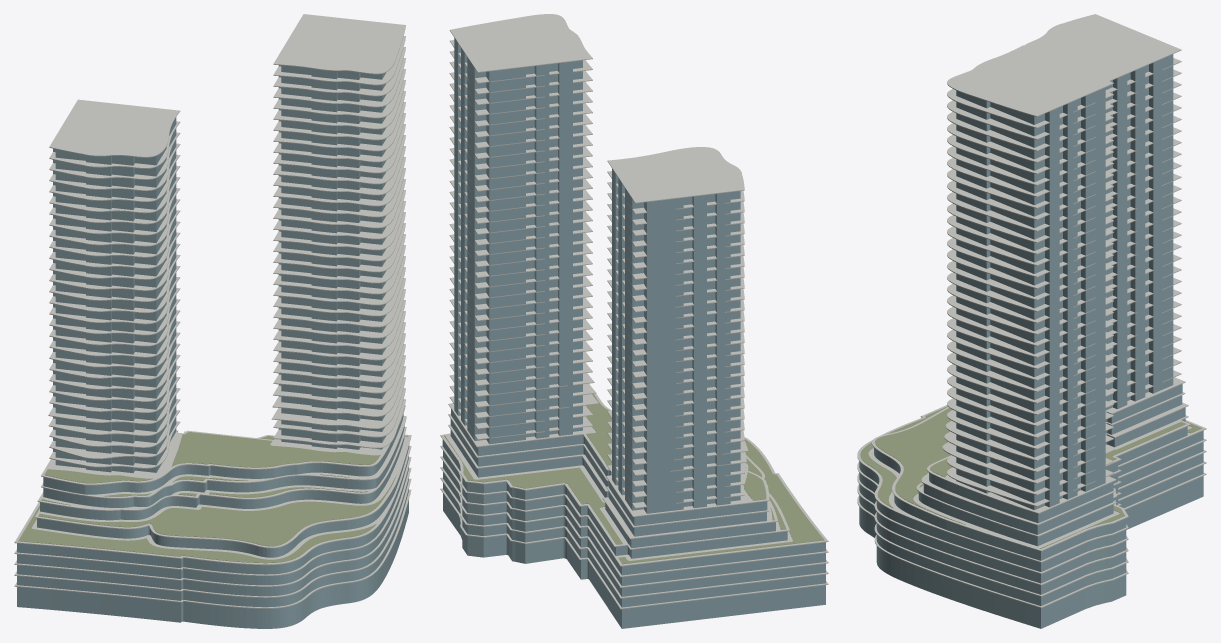
The model's file is voya-towers-plan-derived.glb.
The picture shows the model from 3 angles, left to right: view 1: azimuth 30°, elevation 25°; view 2: azimuth 150°, elevation 25°; view 3: azimuth 270°, elevation 25°; orthographic projection. The views are drawn at different scales.
Visible parts, largest first — view 1: voya-shorter-body, voya-taller-body, voya-podium-level-1-wall-0, voya-podium-level-7-roof-garden-0, voya-taller-band-44, voya-shorter-band-38, voya-podium-level-10-roof-garden-1, voya-podium-level-3-wall-0, voya-podium-level-2-wall-0, voya-podium-level-4-wall-0, voya-podium-level-5-wall-0, voya-podium-level-6-wall-0 (+76 smaller); view 2: voya-taller-body, voya-shorter-body, voya-podium-level-1-wall-0, voya-taller-band-44, voya-shorter-band-38, voya-podium-level-3-wall-0, voya-podium-level-4-wall-0, voya-podium-level-2-wall-0, voya-podium-level-5-wall-0, voya-podium-level-6-wall-0, voya-podium-level-7-wall-0, voya-podium-level-9-wall-0 (+13 smaller); view 3: voya-taller-body, voya-shorter-body, voya-podium-level-1-wall-0, voya-taller-band-44, voya-shorter-band-38, voya-podium-level-5-wall-0, voya-podium-level-4-wall-0, voya-podium-level-3-wall-0, voya-podium-level-2-wall-0, voya-podium-level-6-wall-0, voya-podium-level-7-roof-garden-0, voya-podium-level-7-wall-0 (+47 smaller).
Part boxes in pixels (x1=…): voya-shorter-body: x1=53, y1=117, x2=176, y2=473; voya-taller-body: x1=278, y1=65, x2=386, y2=449; voya-podium-level-1-wall-0: x1=17, y1=500, x2=408, y2=628; voya-podium-level-7-roof-garden-0: x1=38, y1=475, x2=396, y2=546; voya-taller-band-44: x1=273, y1=14, x2=405, y2=74; voya-shorter-band-38: x1=49, y1=99, x2=180, y2=157; voya-podium-level-10-roof-garden-1: x1=171, y1=432, x2=380, y2=467; voya-podium-level-3-wall-0: x1=17, y1=478, x2=408, y2=596; voya-podium-level-2-wall-0: x1=17, y1=489, x2=408, y2=607; voya-podium-level-4-wall-0: x1=17, y1=467, x2=408, y2=585; voya-podium-level-5-wall-0: x1=17, y1=456, x2=408, y2=574; voya-podium-level-6-wall-0: x1=37, y1=445, x2=409, y2=557; voya-taller-body: x1=454, y1=38, x2=582, y2=444; voya-shorter-body: x1=612, y1=169, x2=740, y2=513; voya-podium-level-1-wall-0: x1=443, y1=493, x2=825, y2=628; voya-taller-band-44: x1=449, y1=14, x2=592, y2=72; voya-shorter-band-38: x1=607, y1=147, x2=744, y2=203; voya-podium-level-3-wall-0: x1=443, y1=472, x2=825, y2=596; voya-podium-level-4-wall-0: x1=443, y1=461, x2=825, y2=586; voya-podium-level-2-wall-0: x1=443, y1=483, x2=825, y2=607; voya-podium-level-5-wall-0: x1=443, y1=451, x2=825, y2=575; voya-podium-level-6-wall-0: x1=442, y1=439, x2=787, y2=558; voya-podium-level-7-wall-0: x1=450, y1=430, x2=775, y2=548; voya-podium-level-9-wall-0: x1=451, y1=409, x2=767, y2=525; voya-taller-body: x1=956, y1=87, x2=1105, y2=510; voya-shorter-body: x1=1105, y1=54, x2=1173, y2=410; voya-podium-level-1-wall-0: x1=859, y1=476, x2=1203, y2=628; voya-taller-band-44: x1=947, y1=45, x2=1113, y2=116; voya-shorter-band-38: x1=1024, y1=14, x2=1181, y2=81; voya-podium-level-5-wall-0: x1=859, y1=430, x2=1203, y2=571; voya-podium-level-4-wall-0: x1=859, y1=442, x2=1203, y2=583; voya-podium-level-3-wall-0: x1=859, y1=453, x2=1203, y2=594; voya-podium-level-2-wall-0: x1=859, y1=465, x2=1203, y2=605; voya-podium-level-6-wall-0: x1=874, y1=418, x2=1187, y2=560; voya-podium-level-7-roof-garden-0: x1=875, y1=408, x2=965, y2=524; voya-podium-level-7-wall-0: x1=918, y1=407, x2=1185, y2=546.
Bounding box in the file's own units: 122 × 144 × 89.34.
